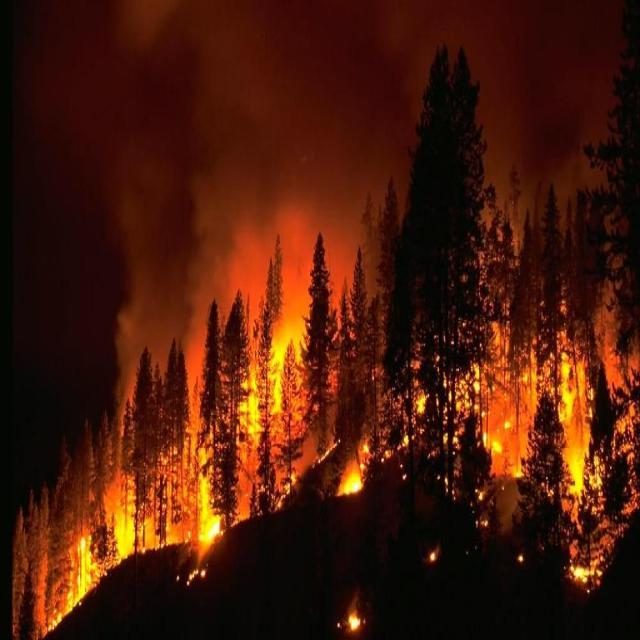Fire: (5, 264, 640, 640)
Smoke: (51, 0, 640, 259)
